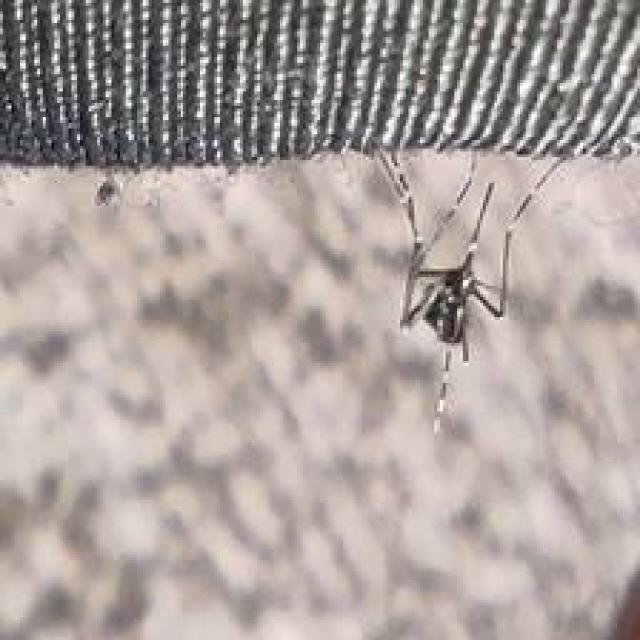Aedes albopictus: (370, 146, 564, 428)
